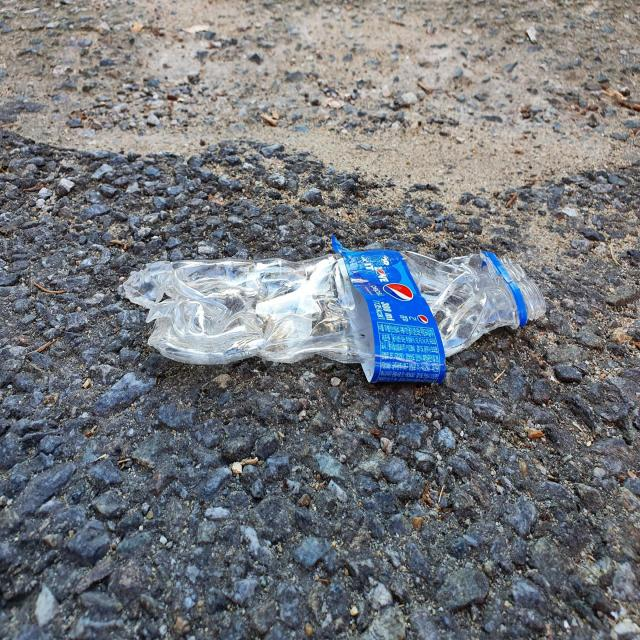plastic: (123, 236, 547, 383)
